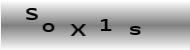1: (99, 18, 111, 32)
S: (25, 8, 38, 21)
X: (70, 23, 87, 37)
o: (41, 22, 55, 32)
s: (128, 25, 141, 36)
